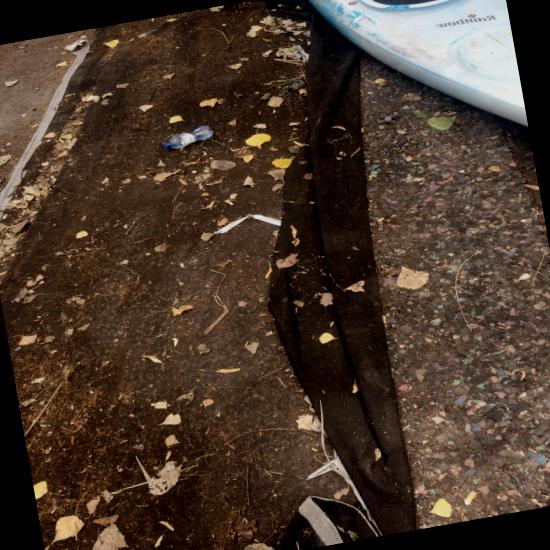Cigarette: (464, 490, 476, 505)
Clear plastic bottle: (162, 125, 212, 149)
Normal paper: (213, 214, 281, 233)
Plastic bottle cap: (162, 142, 168, 148)
